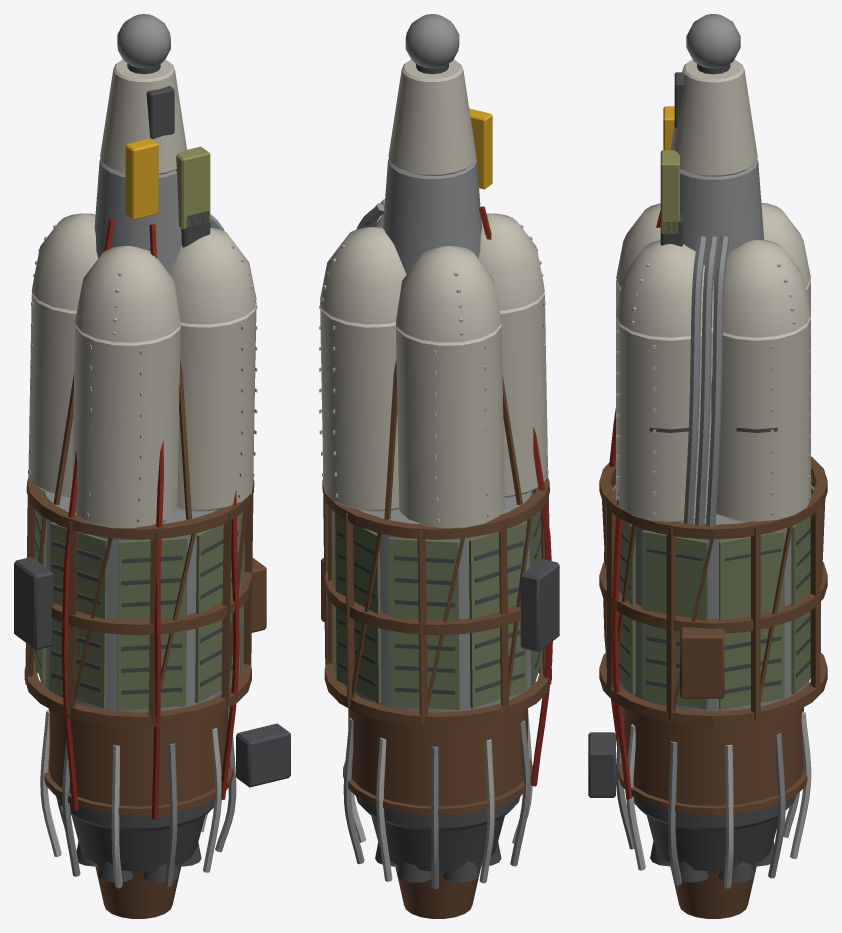
File: rocket-silo-rocket.glb
3 views of the same model, side by side, from view 1: azimuth 30°, elevation 25°; view 2: azimuth 150°, elevation 25°; view 3: azimuth 270°, elevation 25° (orthographic).
Visible parts, largest first — view 1: body; view 2: body; view 3: body.
Boxes of the visible parts, left/top/right/bottom form: body: left=14, top=14, right=290, bottom=918; body: left=319, top=14, right=559, bottom=918; body: left=588, top=14, right=827, bottom=918.
Size of the model in its own units: 4.51 by 16.94 by 4.13.
